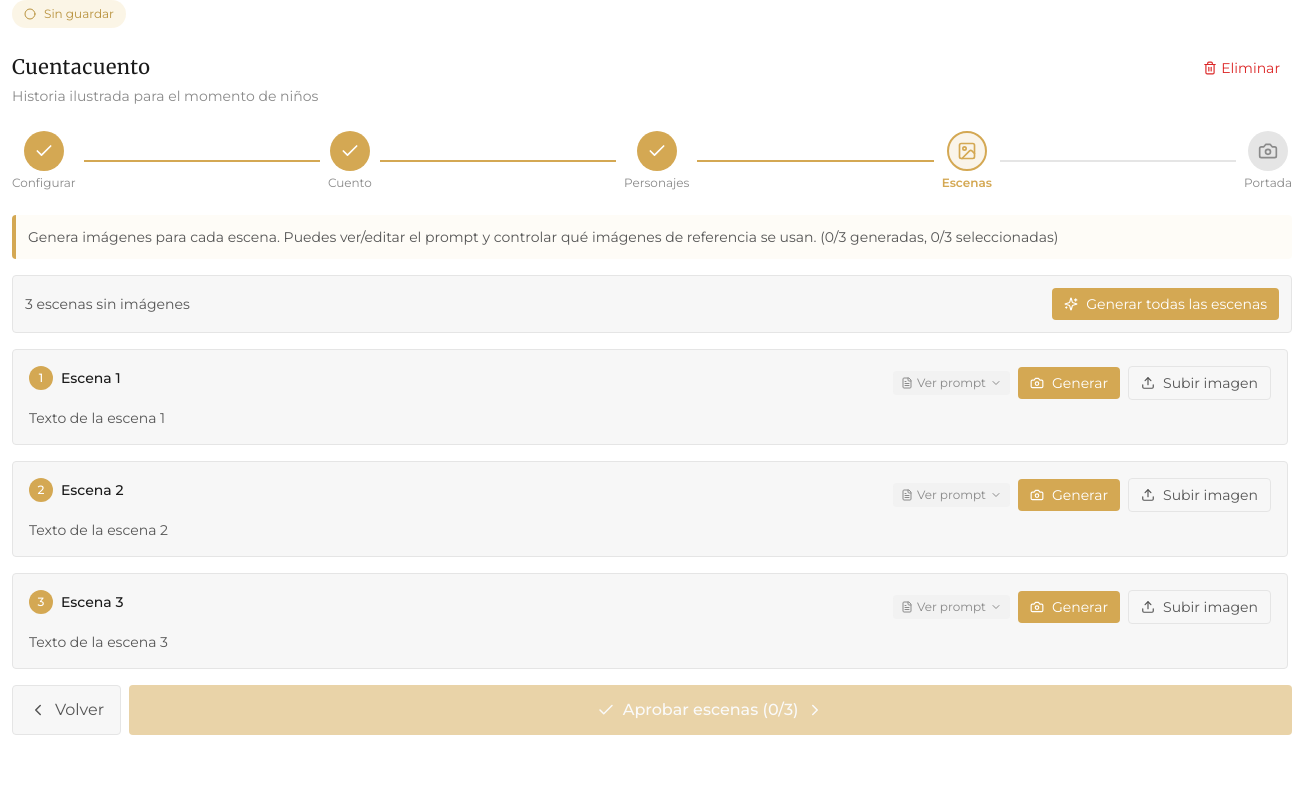
Test case: T-G.10 — cancelación y reanudación reales del lote de escenas › tras el cancel de usuario ningún auto-arranque revive el lote por su cuenta
Click the button "Generar todas las escenas": (1166, 304) x1=1052 y1=288 x2=1279 y2=320
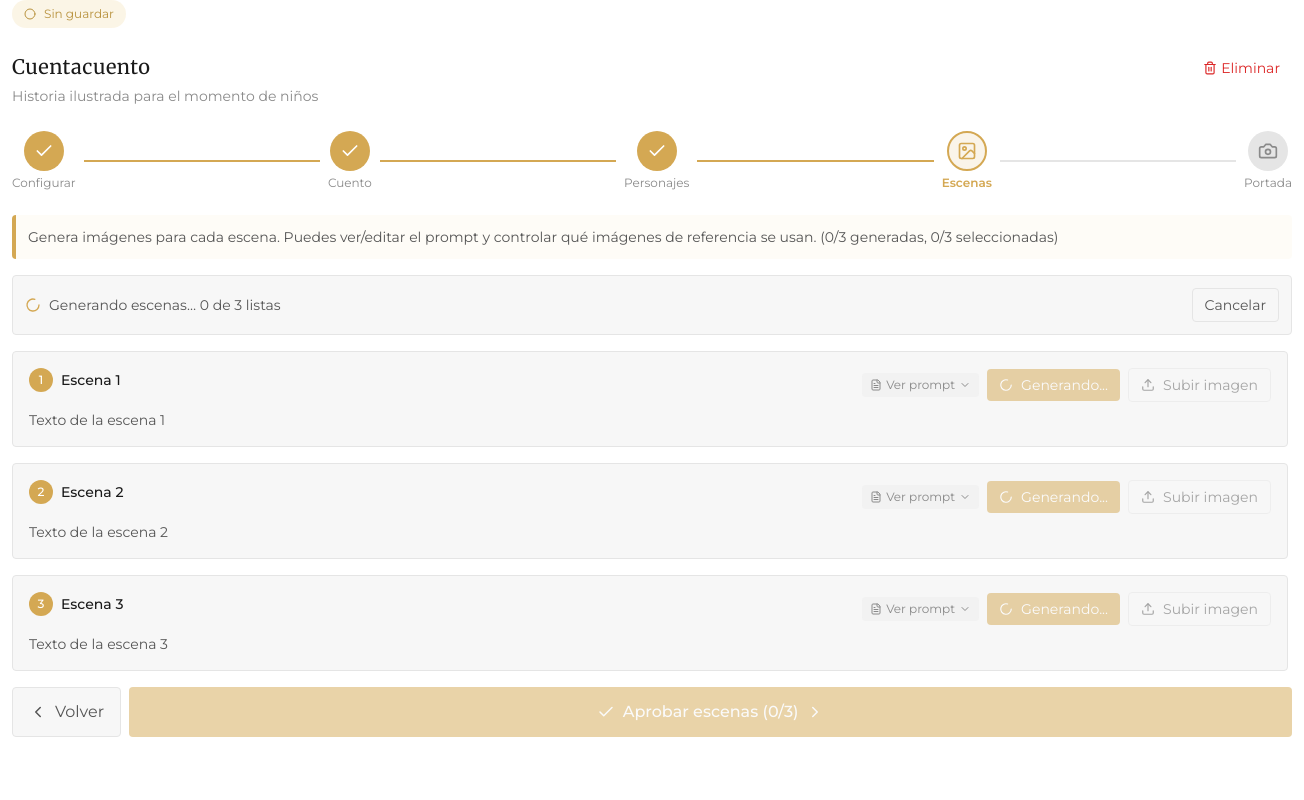
Result: the number of buttons "Cancelar" is 1
Click the button "Cancelar": (1235, 305) x1=1192 y1=288 x2=1279 y2=322
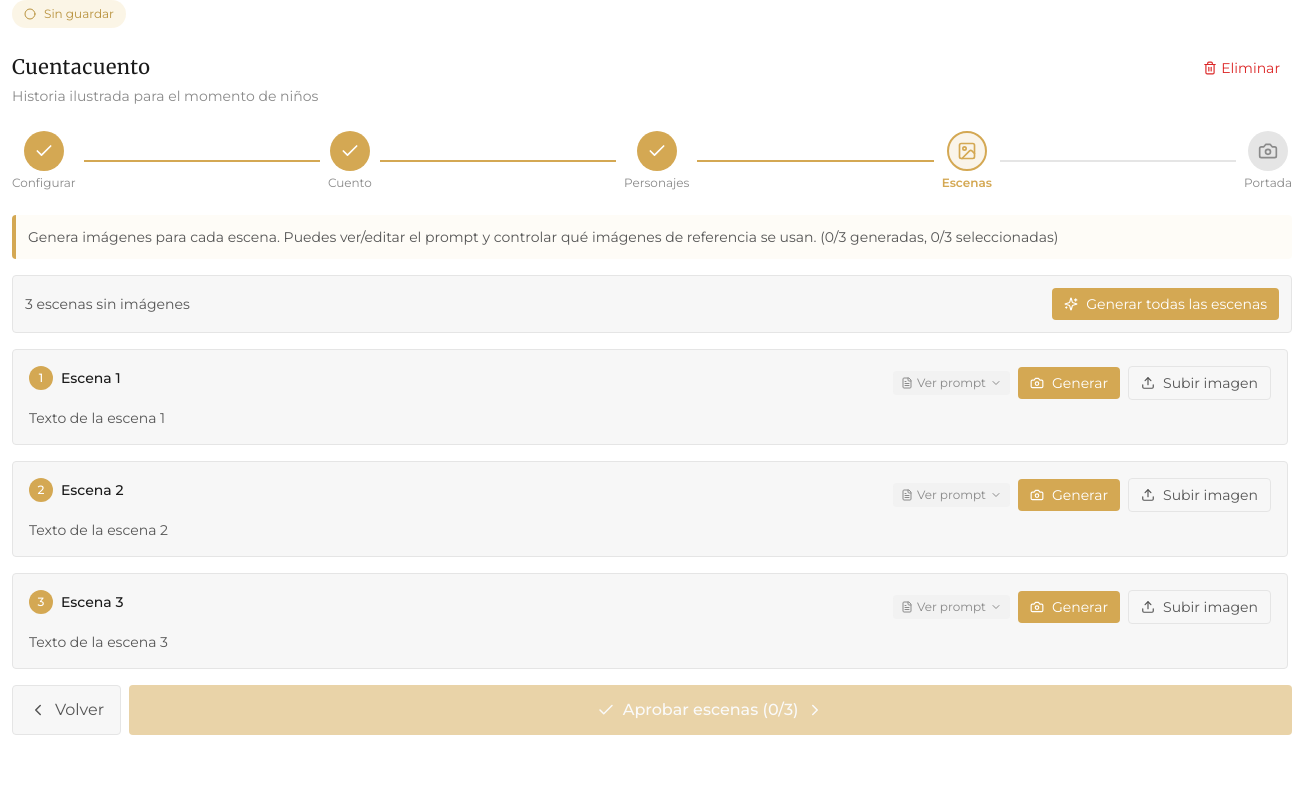
Result: the button "Cancelar" is gone
Result: the button "Generar todas las escenas" is shown at x1=1052 y1=288 x2=1279 y2=320
